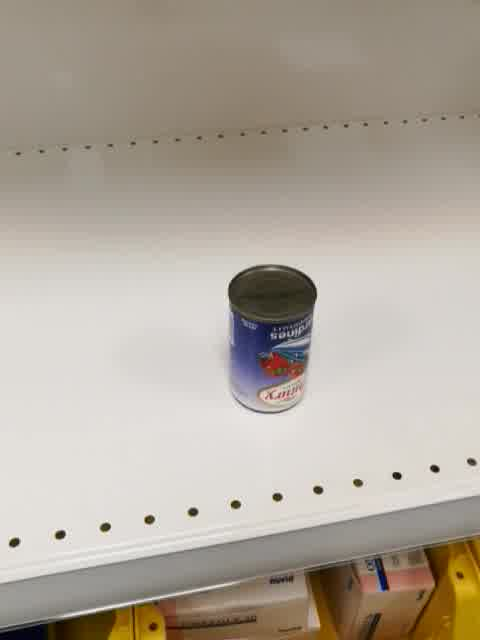sardine: (226, 261, 319, 415)
